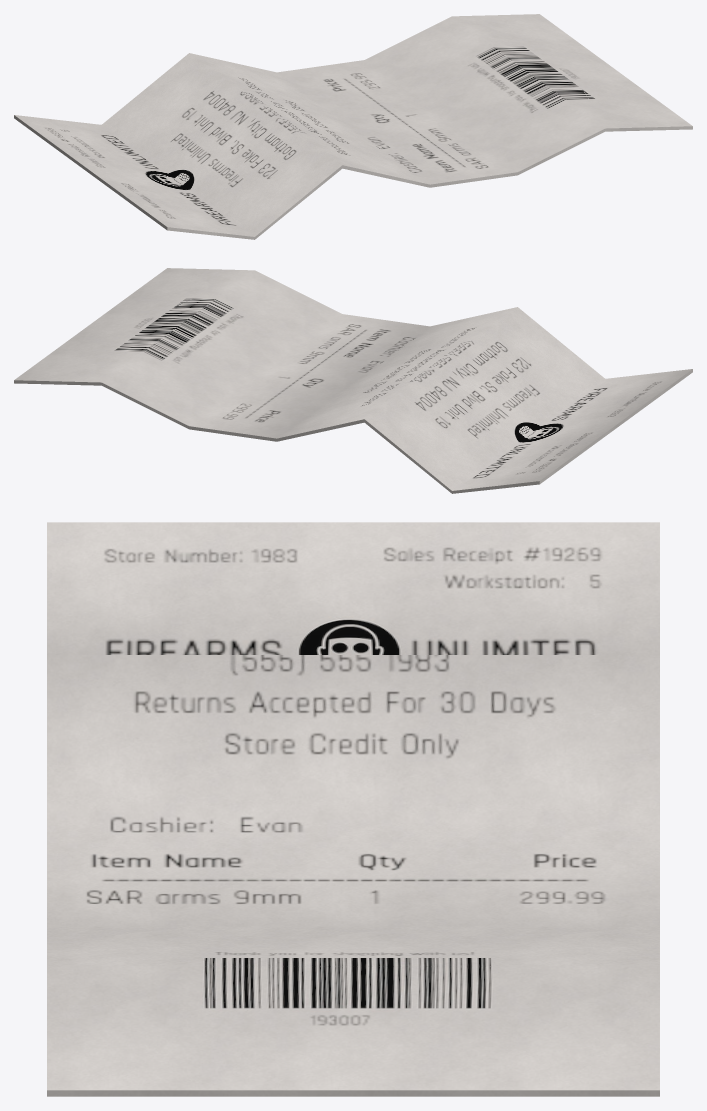
The model's file is paper.glb.
3 views of the same model, one above another, from view 1: azimuth 30°, elevation 25°; view 2: azimuth 150°, elevation 25°; view 3: azimuth 270°, elevation 25° (orthographic). The views are drawn at different scales.
Visible parts, largest first — view 1: GunReceipt_Geo; view 2: GunReceipt_Geo; view 3: GunReceipt_Geo.
Boxes of the visible parts, x1,y1,x2,y2 form: GunReceipt_Geo: [14, 14, 692, 239]; GunReceipt_Geo: [14, 268, 692, 493]; GunReceipt_Geo: [47, 522, 659, 1096].
Bounding box in the file's own units: 2 × 0.194 × 1.01.
Materials: 1 (1 with a texture image).
